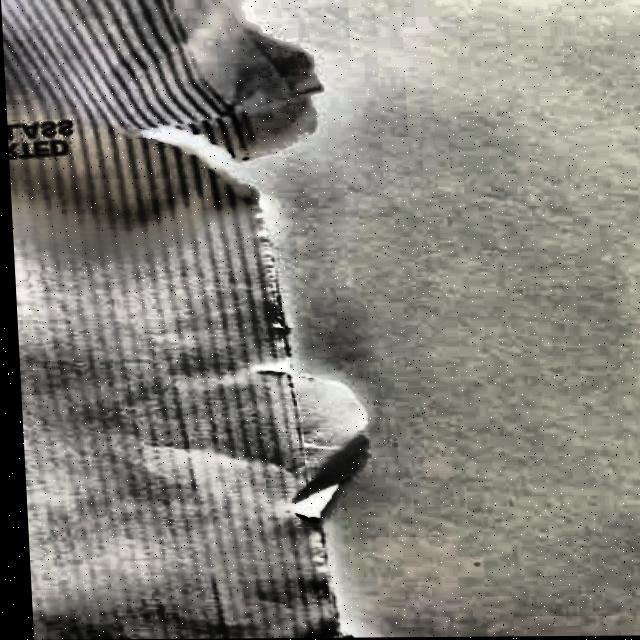paper: (0, 0, 385, 640)
